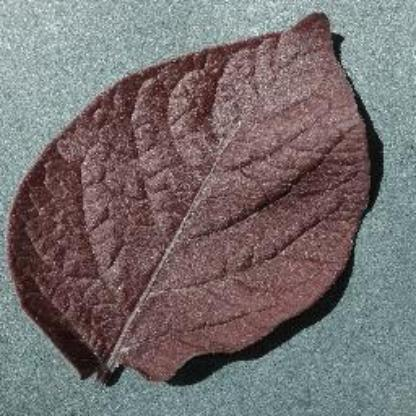Healthy-plant: (4, 12, 380, 390)
